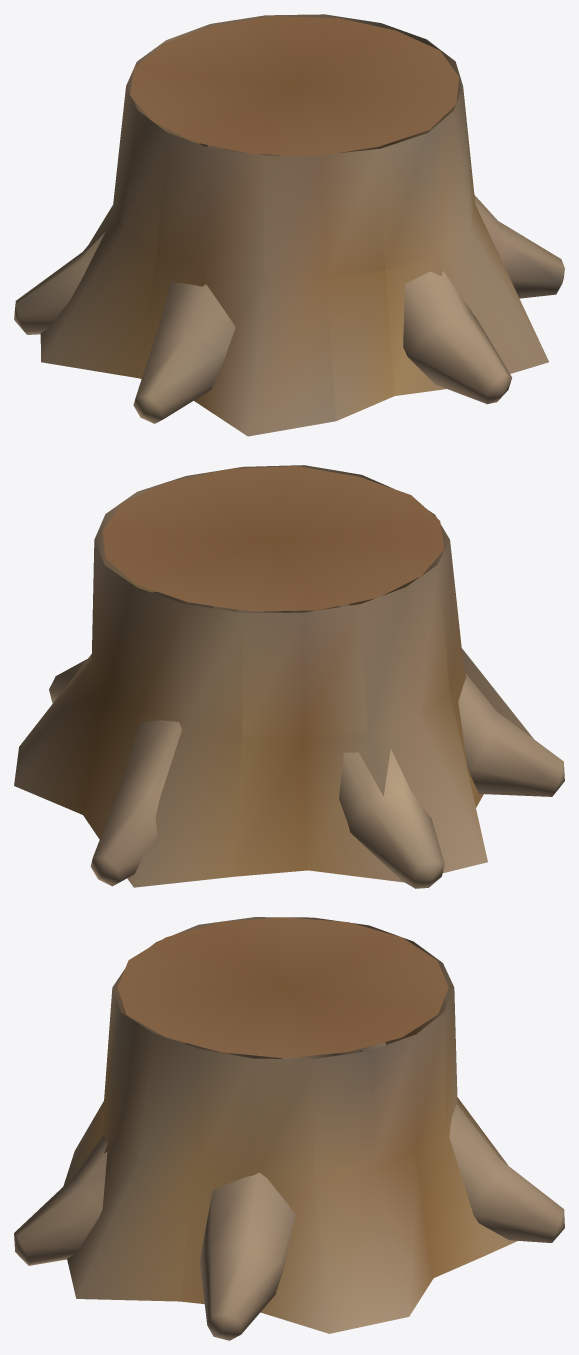
Rendered from PLN_Stump_Short.fbx.
3 views of the same model, one above another, from view 1: azimuth 30°, elevation 25°; view 2: azimuth 150°, elevation 25°; view 3: azimuth 270°, elevation 25° (orthographic). The views are drawn at different scales.
Visible parts, largest first — view 1: PLN_Stump_Short; view 2: PLN_Stump_Short; view 3: PLN_Stump_Short.
Part boxes in pixels (left/top/right/bottom): PLN_Stump_Short: left=14, top=14, right=564, bottom=436; PLN_Stump_Short: left=14, top=465, right=564, bottom=888; PLN_Stump_Short: left=14, top=917, right=564, bottom=1340.
Size of the model in its own units: 0.8277 by 0.4068 by 0.8398.
